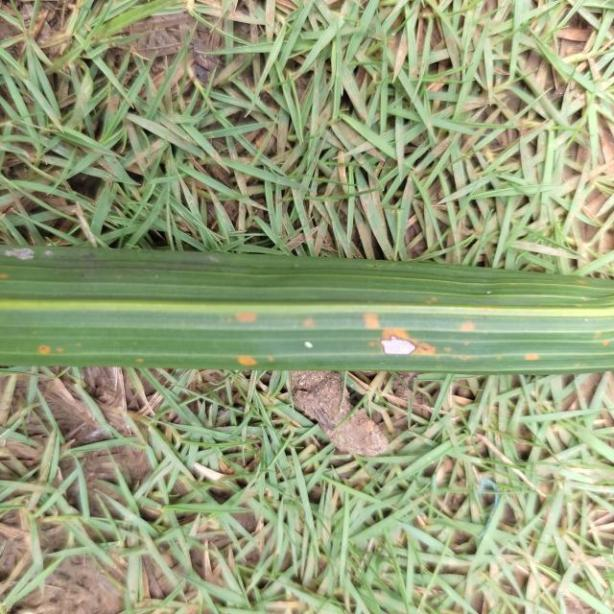Kalium: (0, 240, 614, 376)
